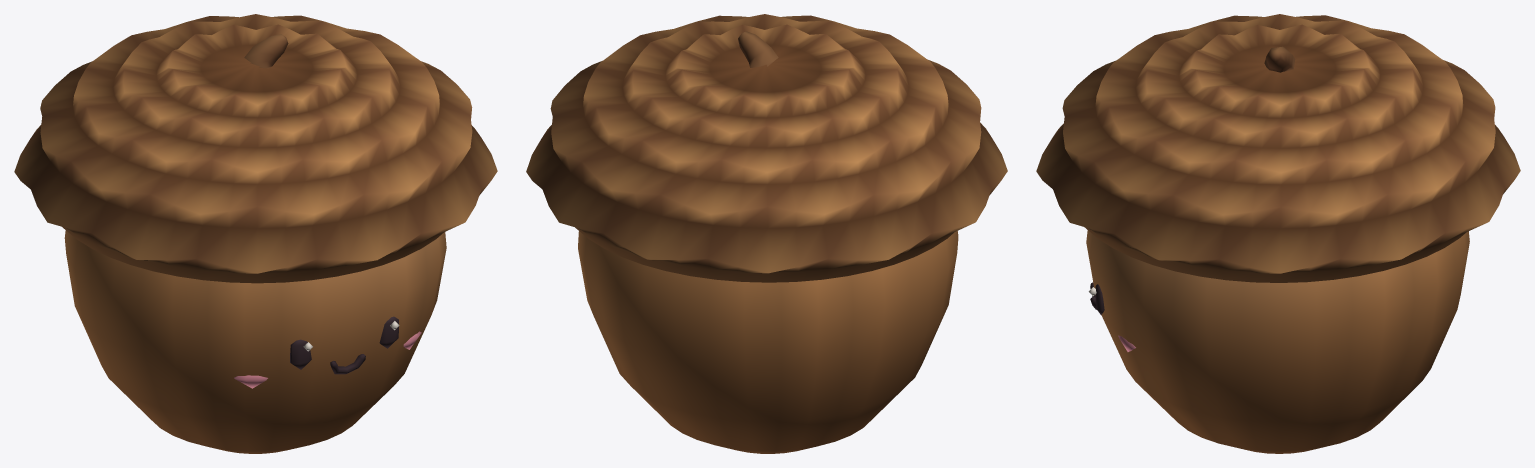
File: furn-acornStool.glb
3 renders of one model, left to right at view 1: azimuth 30°, elevation 25°; view 2: azimuth 150°, elevation 25°; view 3: azimuth 270°, elevation 25°, orthographic.
Visible parts, largest first — view 1: body; view 2: body; view 3: body.
Part boxes in pixels (x1=…): body: x1=14, y1=14, x2=497, y2=453; body: x1=526, y1=14, x2=1007, y2=453; body: x1=1036, y1=14, x2=1520, y2=453.
Bounding box in the file's own units: 0.4986 × 0.442 × 0.4986.
